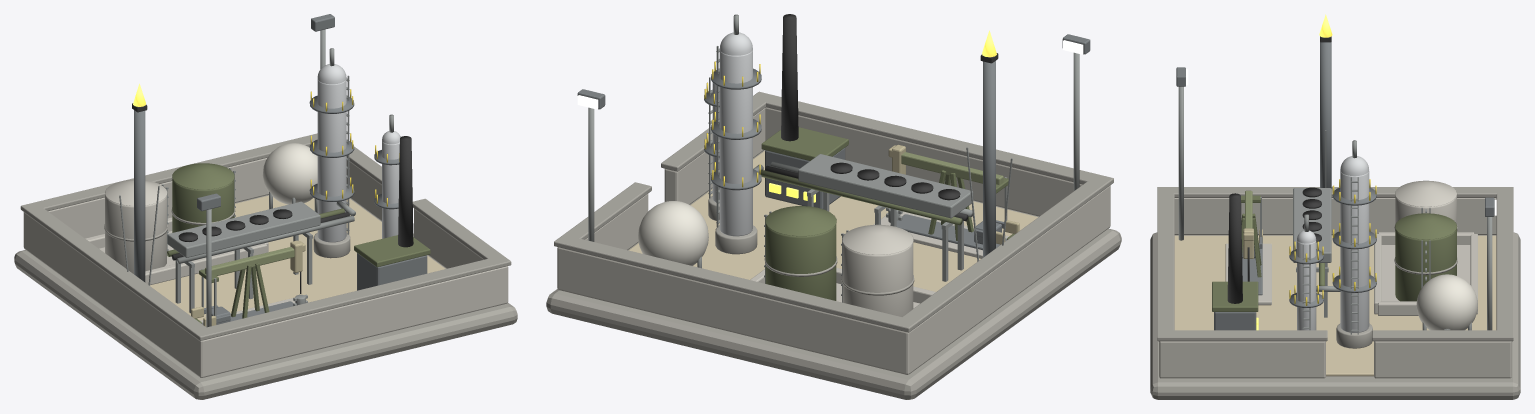
Rendered from oilwell_10.glb.
3 renders of one model, left to right at view 1: azimuth 30°, elevation 25°; view 2: azimuth 150°, elevation 25°; view 3: azimuth 270°, elevation 25°, orthographic. The views are drawn at different scales.
Visible parts, largest first — view 1: Cube, Cube.109, Cube.001, Cube.111, Cube.110, Cylinder.015, Cube.056, Cube.112, Cube.107, Cylinder.002, Sphere.003, Cube.108 (+18 smaller); view 2: Cube.107, Cube, Cube.111, Cube.001, Cube.109, Cylinder.015, Cube.108, Cube.110, Cube.056, Cube.112, Cylinder.004, Cylinder.002 (+19 smaller); view 3: Cube.001, Cube, Cube.115, Cube.111, Cube.113, Cylinder.015, Cylinder.004, Sphere.003, Cube.108, Cube.110, Cube.112, Cube.116 (+26 smaller).
Boxes of the visible parts, <box> form: Cube: <box>14,195,517,399</box>; Cube.109: <box>195,266,508,377</box>; Cube.001: <box>150,195,445,320</box>; Cube.111: <box>29,216,196,373</box>; Cube.110: <box>192,255,511,340</box>; Cylinder.015: <box>317,79,346,242</box>; Cube.056: <box>167,201,320,257</box>; Cube.112: <box>25,205,210,336</box>; Cube.107: <box>23,158,268,251</box>; Cylinder.002: <box>105,195,166,273</box>; Sphere.003: <box>262,143,317,204</box>; Cube.108: <box>20,133,317,214</box>; Cube.107: <box>557,247,914,374</box>; Cube: <box>546,150,1121,399</box>; Cube.111: <box>914,190,1104,370</box>; Cube.001: <box>629,151,1037,291</box>; Cube.109: <box>765,107,1110,231</box>; Cylinder.015: <box>719,50,752,236</box>; Cube.108: <box>554,235,918,332</box>; Cube.110: <box>753,91,1113,187</box>; Cube.056: <box>798,154,973,218</box>; Cube.112: <box>897,177,1108,328</box>; Cylinder.004: <box>765,224,836,300</box>; Cylinder.002: <box>842,242,913,316</box>; Cube.001: <box>1174,235,1496,376</box>; Cube: <box>1150,232,1520,399</box>; Cube.115: <box>1167,341,1325,378</box>; Cube.111: <box>1174,198,1496,234</box>; Cube.113: <box>1374,341,1502,378</box>; Cylinder.015: <box>1340,171,1369,332</box>; Cylinder.004: <box>1395,228,1456,301</box>; Sphere.003: <box>1416,274,1477,330</box>; Cube.108: <box>1496,187,1513,341</box>; Cube.110: <box>1157,187,1174,341</box>; Cube.112: <box>1165,187,1505,197</box>; Cube.116: <box>1165,330,1327,341</box>.
Size of the model in its own units: 1.92 by 1.42 by 1.92.
